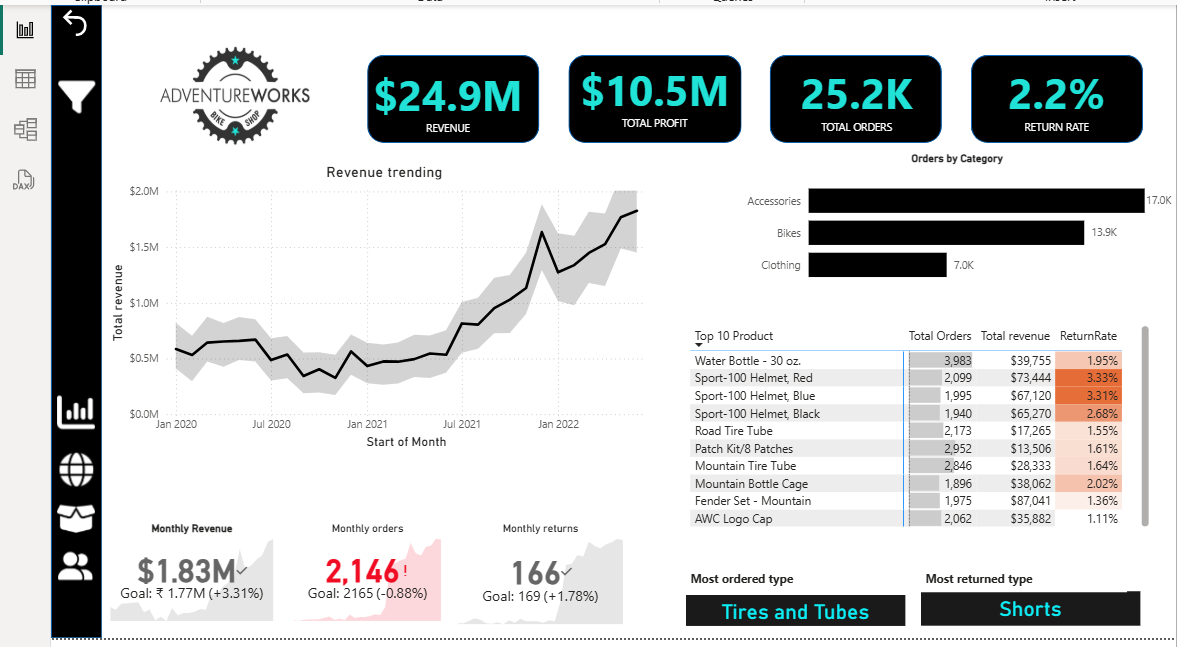

The dashboard page shown, as its layout file describes it:
{"tool":"powerbi","page":{"name":"Exec Dashboard","canvas":[1280,720],"ordinal":0},"visuals":[{"type":"image","title":"aw logo","box":[100.3,6.1,217.7,194.4],"z":0},{"type":"shape","title":"r4","box":[1046.7,57.5,195.7,100],"z":0,"group":"g1"},{"type":"actionButton","box":[2.4,434.1,51.4,58.7],"z":0,"group":"g2"},{"type":"shape","title":"left line","box":[0,0,58,720.3],"z":1000},{"type":"shape","title":"r3","box":[818.1,57.5,195.7,100],"z":1000,"group":"g1"},{"type":"actionButton","box":[4.7,500.7,46.5,56.3],"z":1000,"group":"g2"},{"type":"group","id":"g1","title":"kpi","box":[359.5,57.5,882.9,100],"z":2000},{"type":"shape","title":"r2","box":[588.2,57.5,196.9,100],"z":2000,"group":"g1"},{"type":"actionButton","box":[3,559.4,51.4,55],"z":2000,"group":"g2"},{"type":"shape","title":"r1","box":[359.5,57.5,195.7,100],"z":3000,"group":"g1"},{"type":"card","fields":{"Values":["Measure Table.Total revenue"]},"box":[348.5,62.4,206.7,91.7],"z":3000},{"type":"card","fields":{"Values":["Measure Table.Total Profit"]},"box":[596.7,57.5,179.8,91.7],"z":4000},{"type":"card","fields":{"Values":["Measure Table.Total Orders"]},"box":[821.7,61.1,189.5,91.7],"z":5000},{"type":"card","fields":{"Values":["Measure Table.ReturnRate"]},"box":[1049.2,61.1,189.5,91.7],"z":6000},{"type":"kpi","title":"Monthly Revenue","fields":{"Goal":["Measure Table.Previous Month revenue"],"TrendLine":["Calendar Lookup.Start of Month"],"Indicator":["Measure Table.Total revenue"]},"box":[62.4,588.2,195.7,117.4],"z":7000},{"type":"kpi","title":"Monthly orders","fields":{"Indicator":["Measure Table.Total Orders"],"TrendLine":["Calendar Lookup.Start of Month"],"Goal":["Measure Table.Previous Month orders"]},"box":[271.5,588.2,177.3,117.4],"z":8000},{"type":"kpi","title":"Monthly returns","fields":{"TrendLine":["Calendar Lookup.Start of Month"],"Indicator":["Measure Table.Total Returns"],"Goal":["Measure Table.Previous Month return"]},"box":[458.6,588.2,198.1,121.1],"z":9000},{"type":"clusteredBarChart","title":"Orders by Category","fields":{"Category":["Product Categories Lookup.CategoryName"],"Y":["Measure Table.Total Orders"]},"box":[782,167.4,497.8,163],"z":10000},{"type":"pivotTable","fields":{"Rows":["Product Categories Lookup.CategoryName","Product Lookup.ProductName"],"Values":["Measure Table.Total Orders","Measure Table.Total revenue","Measure Table.ReturnRate"]},"box":[722.5,359.8,531.9,238.9],"z":11000},{"type":"card","title":"Most ordered product type","fields":{"Values":["Min(Product Subcategories Lookup.SubcategoryName)"]},"box":[722.7,671.3,249.5,35.5],"z":12000},{"type":"card","title":"Most returned product type","fields":{"Values":["Min(Product Subcategories Lookup.SubcategoryName)"]},"box":[989.3,667.7,249.5,39.1],"z":13000},{"type":"lineChart","title":"Revenue trending","fields":{"Category":["Calendar Lookup.Start of Month"],"Y":["Measure Table.Total revenue"]},"box":[62.3,179.7,633.3,330.4],"z":14000},{"type":"textbox","box":[722.7,638.3,237.2,29.3],"z":15000},{"type":"textbox","box":[989.3,638.3,234.8,29.3],"z":16000},{"type":"actionButton","box":[7.3,0,50.1,40.4],"z":17000},{"type":"actionButton","box":[4.9,79.5,51.4,50.1],"z":18000},{"type":"group","id":"g2","title":"Navigation Buttons","box":[2.4,434.1,52.6,181],"z":20000},{"type":"actionButton","box":[0,613.9,55,47.7],"z":21000}]}

Visuals, with their boxes on the page's 1280x720 design canvas (x1, y1, x2, y2). These are canvas units, not pixel positions in the 1177x647 screenshot, which may show the page scaled, cropped or inside an application window:
"aw logo" image: 100 6 318 200
"r4" shape: 1047 58 1242 158
actionButton: 2 434 54 493
"left line" shape: 0 0 58 720
"r3" shape: 818 58 1014 158
actionButton: 5 501 51 557
"kpi" group: 360 58 1242 158
"r2" shape: 588 58 785 158
actionButton: 3 559 54 614
"r1" shape: 360 58 555 158
card - Measure Table.Total revenue: 348 62 555 154
card - Measure Table.Total Profit: 597 58 776 149
card - Measure Table.Total Orders: 822 61 1011 153
card - Measure Table.ReturnRate: 1049 61 1239 153
"Monthly Revenue" kpi: 62 588 258 706
"Monthly orders" kpi: 272 588 449 706
"Monthly returns" kpi: 459 588 657 709
"Orders by Category" clusteredBarChart: 782 167 1280 330
pivotTable - Product Categories Lookup.CategoryName x Product Lookup.ProductName: 722 360 1254 599
"Most ordered product type" card: 723 671 972 707
"Most returned product type" card: 989 668 1239 707
"Revenue trending" lineChart: 62 180 696 510
textbox: 723 638 960 668
textbox: 989 638 1224 668
actionButton: 7 0 57 40
actionButton: 5 80 56 130
"Navigation Buttons" group: 2 434 55 615
actionButton: 0 614 55 662
